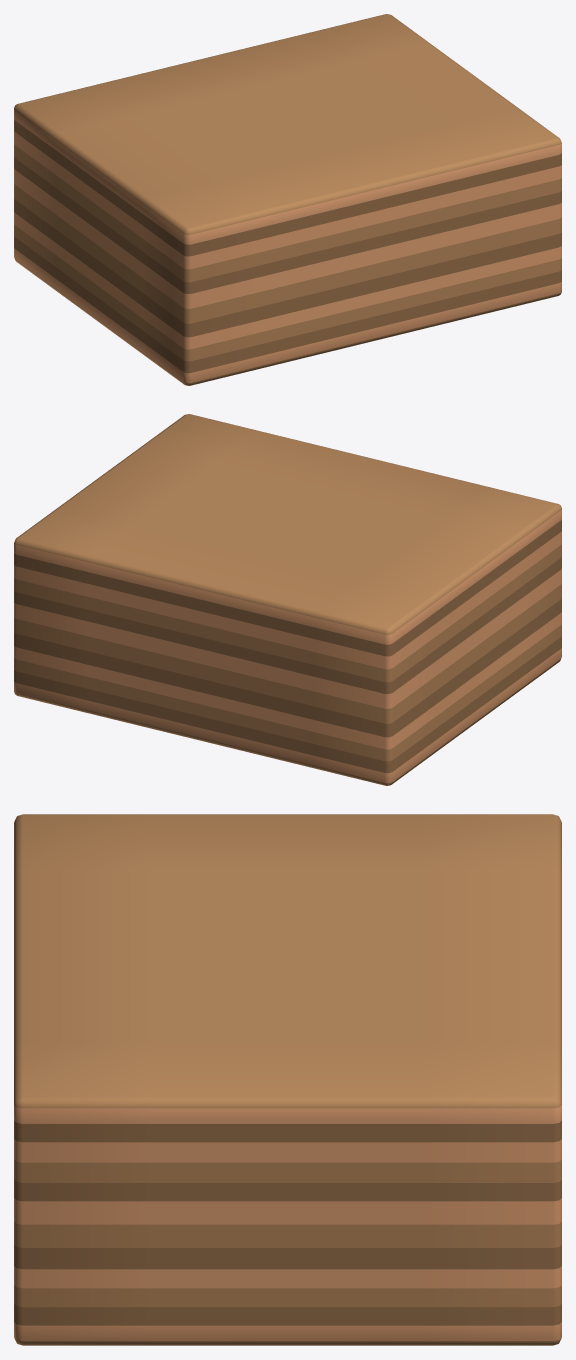
The model's file is Cube_Grass_CornerBottom_Tall_021.gltf.
The picture shows the model from 3 angles, top to bottom: view 1: azimuth 30°, elevation 25°; view 2: azimuth 150°, elevation 25°; view 3: azimuth 270°, elevation 25°; orthographic projection. The views are drawn at different scales.
Visible parts, largest first — view 1: Cube_Grass_CornerBottom_Tall.021; view 2: Cube_Grass_CornerBottom_Tall.021; view 3: Cube_Grass_CornerBottom_Tall.021.
Part boxes in pixels (x1=…): Cube_Grass_CornerBottom_Tall.021: x1=14, y1=14, x2=561, y2=385; Cube_Grass_CornerBottom_Tall.021: x1=14, y1=414, x2=561, y2=785; Cube_Grass_CornerBottom_Tall.021: x1=14, y1=814, x2=561, y2=1345.
Bounding box in the file's own units: 10 × 4 × 8.
